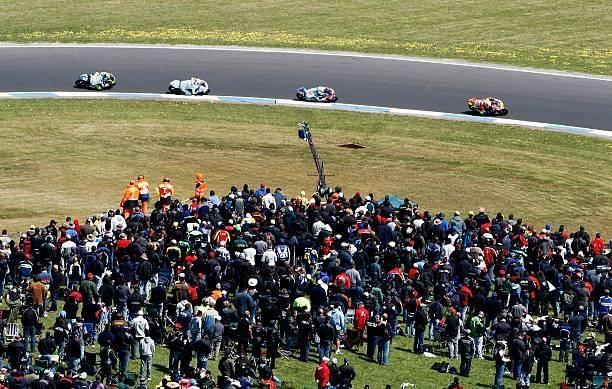Motorcycle: (466, 92, 507, 118), (76, 72, 119, 92), (297, 84, 342, 103), (168, 76, 210, 94)
